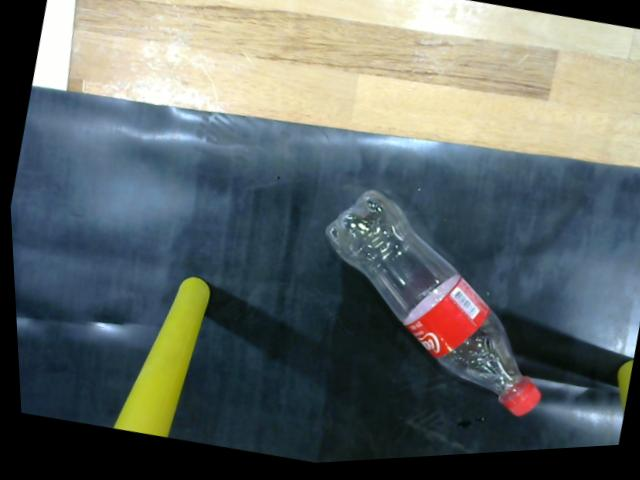bottle: (319, 184, 548, 429)
